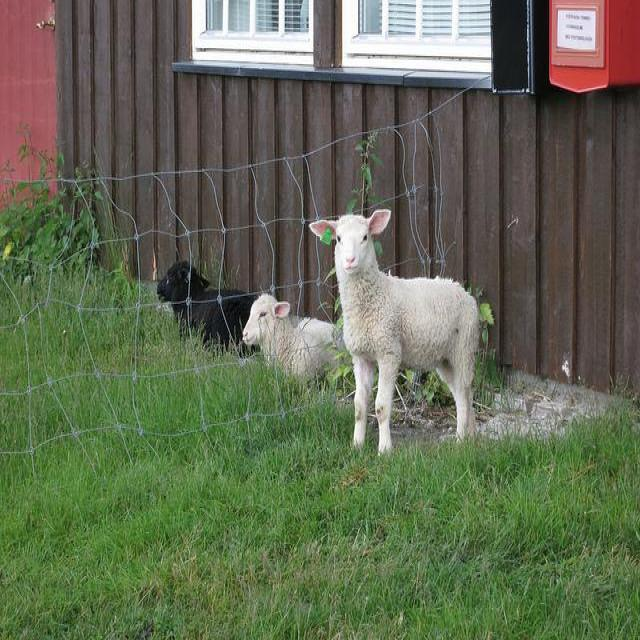Sheep: (309, 209, 480, 459), (238, 294, 346, 390), (157, 261, 258, 359)
